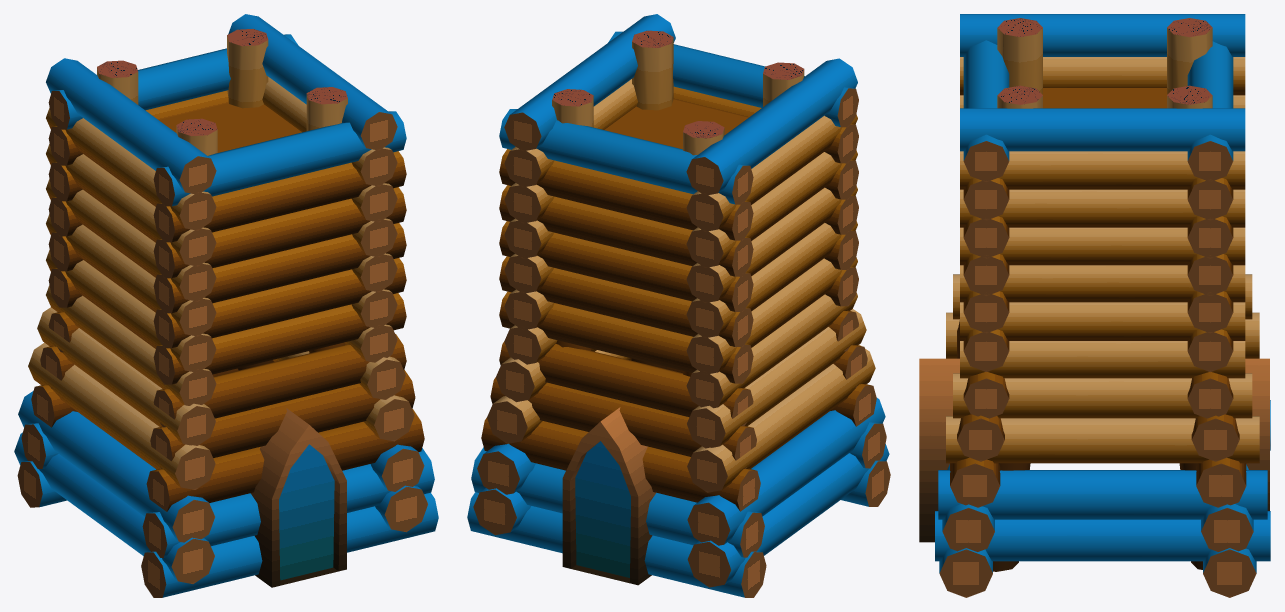
File: TowerLv2Phase2.fbx
3 views of the same model, side by side, from view 1: azimuth 30°, elevation 25°; view 2: azimuth 150°, elevation 25°; view 3: azimuth 270°, elevation 25° (orthographic). The views are drawn at different scales.
Parts seen in each view (by area): view 1: tower_lvl2; view 2: tower_lvl2; view 3: tower_lvl2.
Boxes of the visible parts, x1,y1,x2,y2 form: tower_lvl2: [14, 14, 438, 597]; tower_lvl2: [467, 14, 890, 597]; tower_lvl2: [919, 14, 1270, 597].
Bounding box in the file's own units: 23.53 × 35.91 × 24.65.
